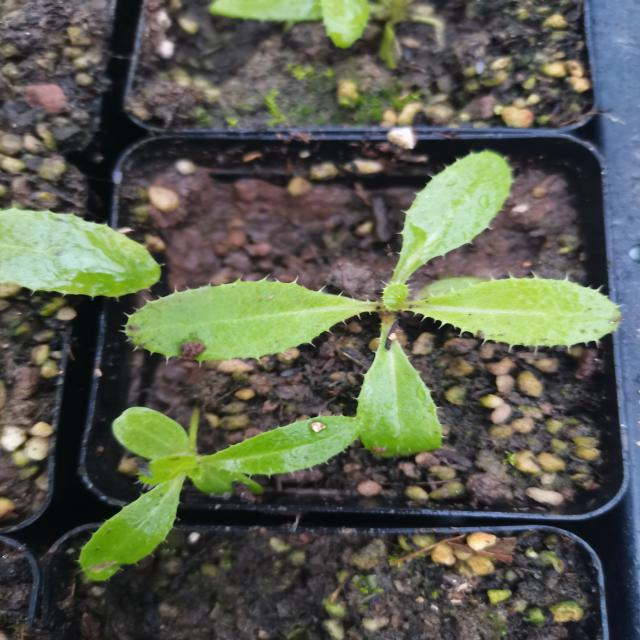field_thistle: (139, 159, 612, 457), (52, 367, 368, 569)
